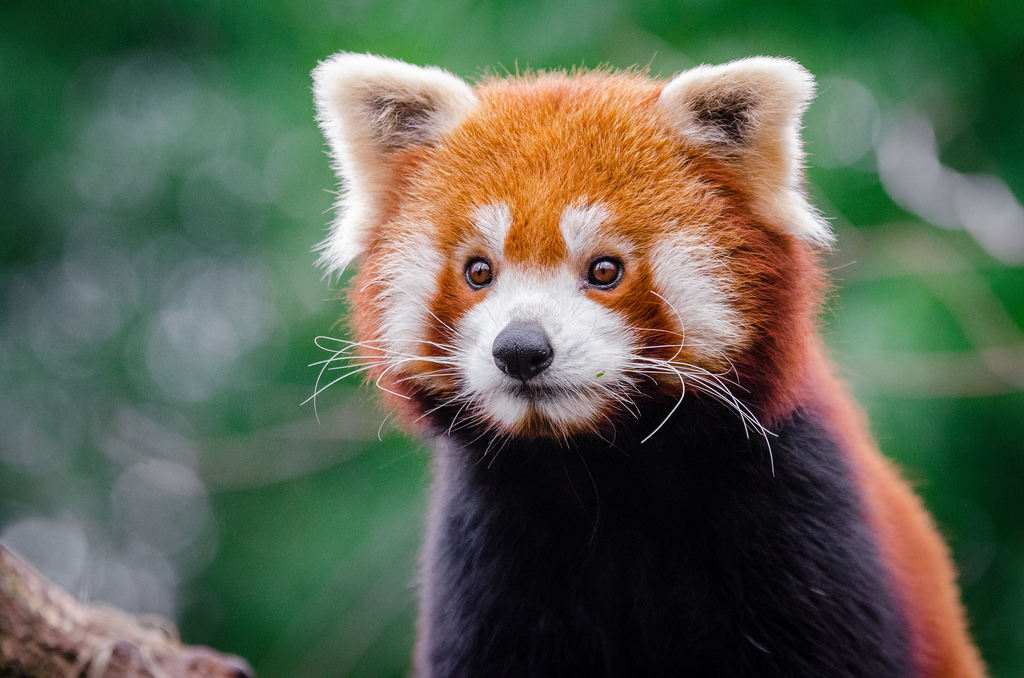red_panda: (310, 52, 965, 678)
